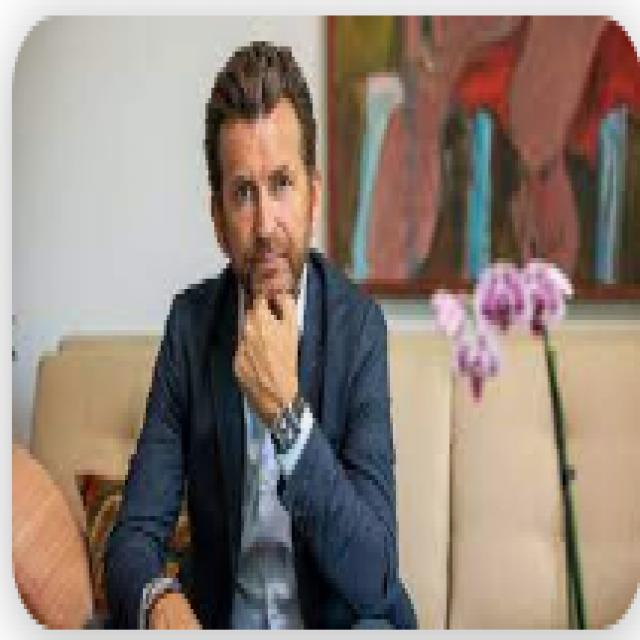Watch: (270, 384, 306, 458)
